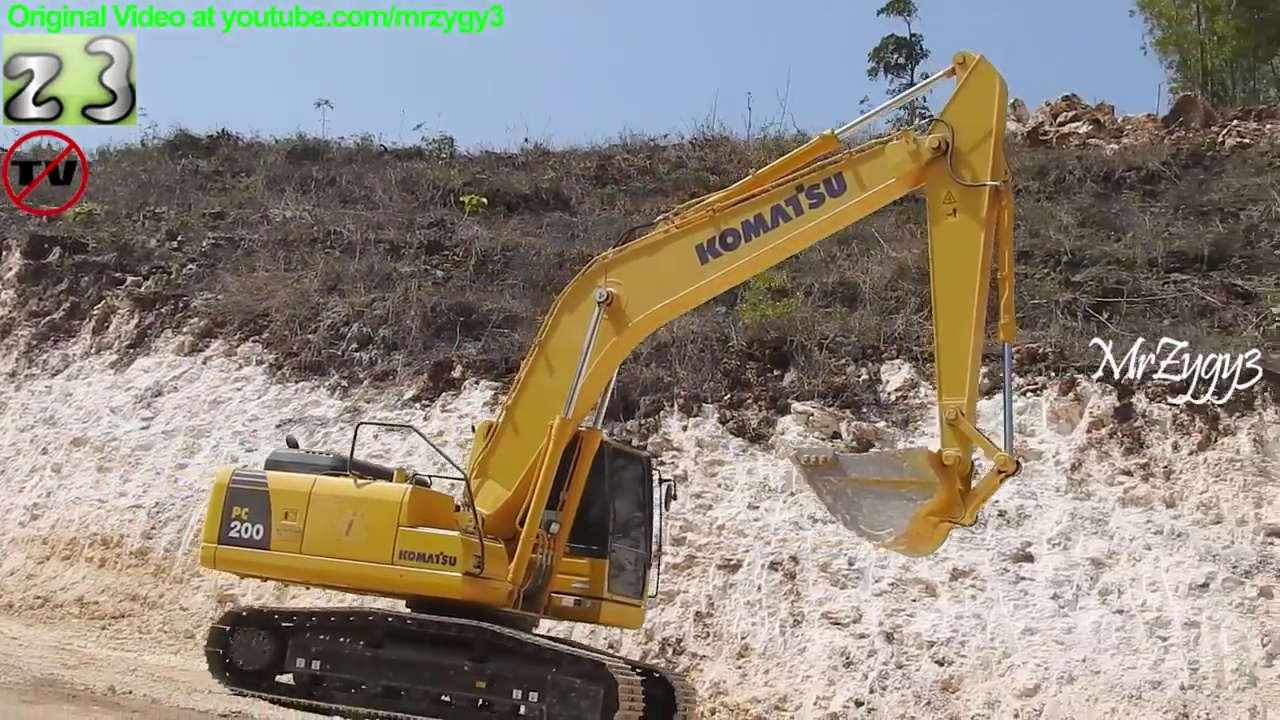excavator: (193, 47, 1034, 720)
